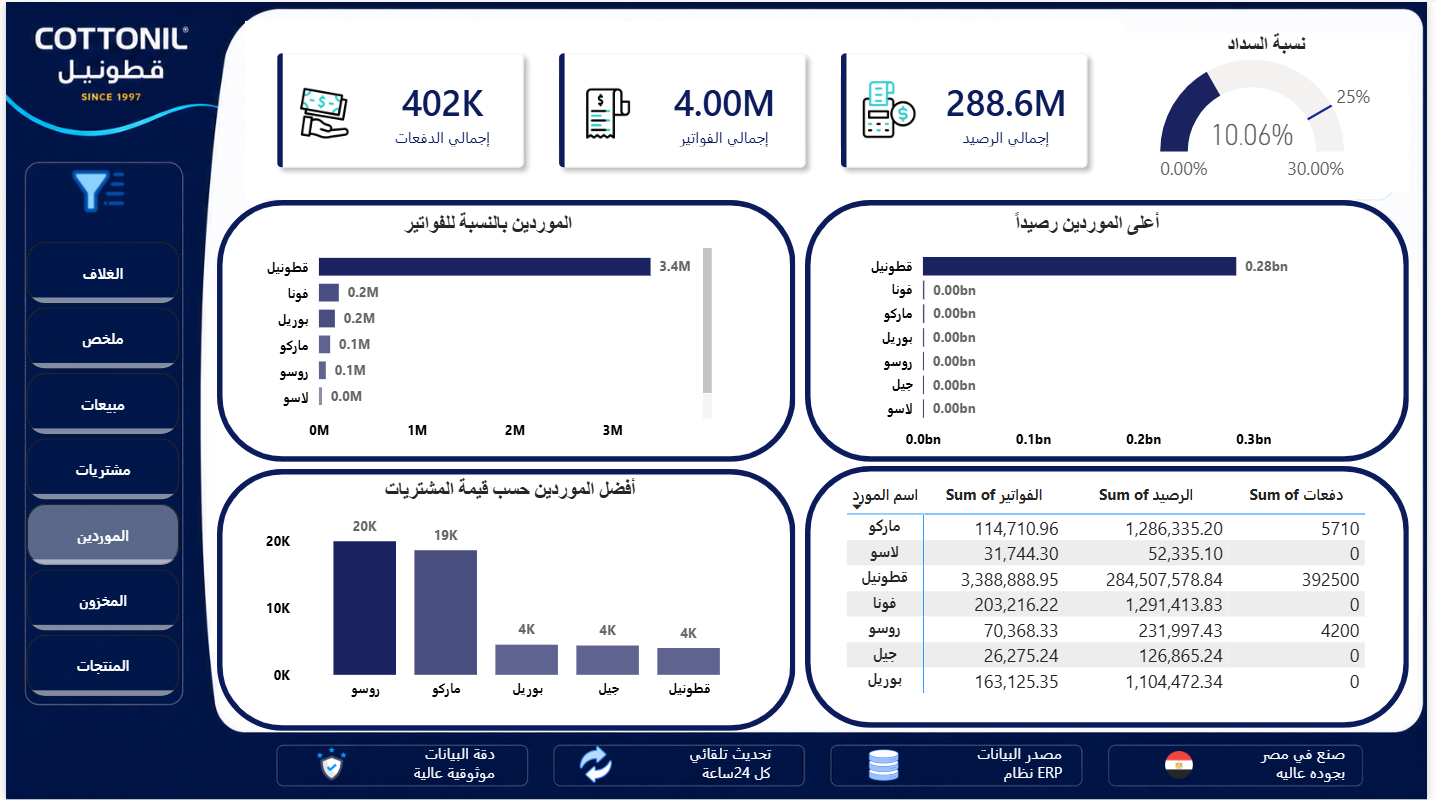

The page's visual inventory and layout, read from the dashboard file:
{"tool":"powerbi","page":{"name":"الموردين","canvas":[1280,720],"ordinal":4},"visuals":[{"type":"shape","box":[189.5,161.3,1086.5,486.8],"z":0},{"type":"shape","box":[190,178.5,521.4,235.9],"z":1000},{"type":"shape","box":[720.3,418.2,544.4,235.9],"z":2000},{"type":"shape","box":[720.3,178.5,544.4,235.9],"z":3000},{"type":"shape","box":[190,420.7,521.4,235.9],"z":4000},{"type":"cardVisual","fields":{"Data":["-measure.إجمالي الدفعات","-measure.إجمالي الفواتير","-measure.إجمالي الرصيد"]},"box":[215.5,16.8,790.9,161.4],"z":5000},{"type":"textbox","box":[358.6,663.2,90.8,46.4],"z":7000},{"type":"textbox","box":[603.6,663.2,90.8,46.4],"z":8000},{"type":"textbox","box":[865.6,663.2,90.8,46.4],"z":9000},{"type":"textbox","box":[1121.1,663.2,90.8,46.4],"z":10000},{"type":"image","box":[1043.5,674.5,27.4,24.6],"z":11000},{"type":"image","box":[274.4,671.7,38.8,30.3],"z":12000},{"type":"image","box":[509.9,669.8,43.5,35],"z":13000},{"type":"image","box":[752.1,673.6,76.6,29.3],"z":14000},{"type":"clusteredBarChart","title":"الموردين  بالنسبة للفواتير ","fields":{"Category":["fact -> كشف حساب الموردين.اسم المورد"],"Y":["Sum(fact -> كشف حساب الموردين.الفواتير)"]},"box":[228.4,189.3,412.8,215],"z":15000},{"type":"clusteredBarChart","title":"أعلى الموردين رصيداً","fields":{"Category":["fact -> كشف حساب الموردين.اسم المورد"],"Y":["Sum(fact -> كشف حساب الموردين.الرصيد)"]},"box":[771.9,189.3,404.3,223.5],"z":16000},{"type":"pivotTable","fields":{"Rows":["fact -> كشف حساب الموردين.اسم المورد"],"Values":["Sum(fact -> كشف حساب الموردين.الفواتير)","Sum(fact -> كشف حساب الموردين.الرصيد)","Sum(fact -> كشف حساب الموردين.دفعات)"]},"box":[752.6,428.9,478.7,206],"z":17000},{"type":"gauge","title":"نسبة السداد ","fields":{"Y":["-measure.نسبة السداد"],"TargetValue":["-measure.Target Payment %"],"MaxValue":["select"]},"box":[1006.4,27.5,258,142.8],"z":18000},{"type":"columnChart","title":"أفضل الموردين حسب قيمة المشتريات","fields":{"Category":["dim supplier -> الموردين.اسم المورد"],"Y":["-measure.اجمالي المشتريات"]},"box":[228.6,429.3,450.6,207.4],"z":19000},{"type":"pageNavigator","box":[19,216.5,137.7,409],"z":20000},{"type":"actionButton","box":[53.2,140.3,70.2,60],"z":21000}]}

Visuals, with their boxes in screenshot pixels (x1, y1, x2, y2), scaled from the page's 1280x720 canvas onto the 1436x800 screenshot:
shape: 213:179:1432:720
shape: 213:198:798:460
shape: 808:465:1419:727
shape: 808:198:1419:460
shape: 213:467:798:730
cardVisual - -measure.إجمالي الدفعات x -measure.إجمالي الفواتير: 242:19:1129:198
textbox: 402:737:504:788
textbox: 677:737:779:788
textbox: 971:737:1073:788
textbox: 1258:737:1360:788
image: 1171:749:1201:777
image: 308:746:351:780
image: 572:744:621:783
image: 844:748:930:781
"الموردين  بالنسبة للفواتير " clusteredBarChart: 256:210:719:449
"أعلى الموردين رصيداً" clusteredBarChart: 866:210:1320:459
pivotTable - fact -> كشف حساب الموردين.اسم المورد x Sum(fact -> كشف حساب الموردين.الفواتير): 844:477:1381:705
"نسبة السداد " gauge: 1129:31:1418:189
"أفضل الموردين حسب قيمة المشتريات" columnChart: 256:477:762:707
pageNavigator: 21:241:176:695
actionButton: 60:156:138:223
